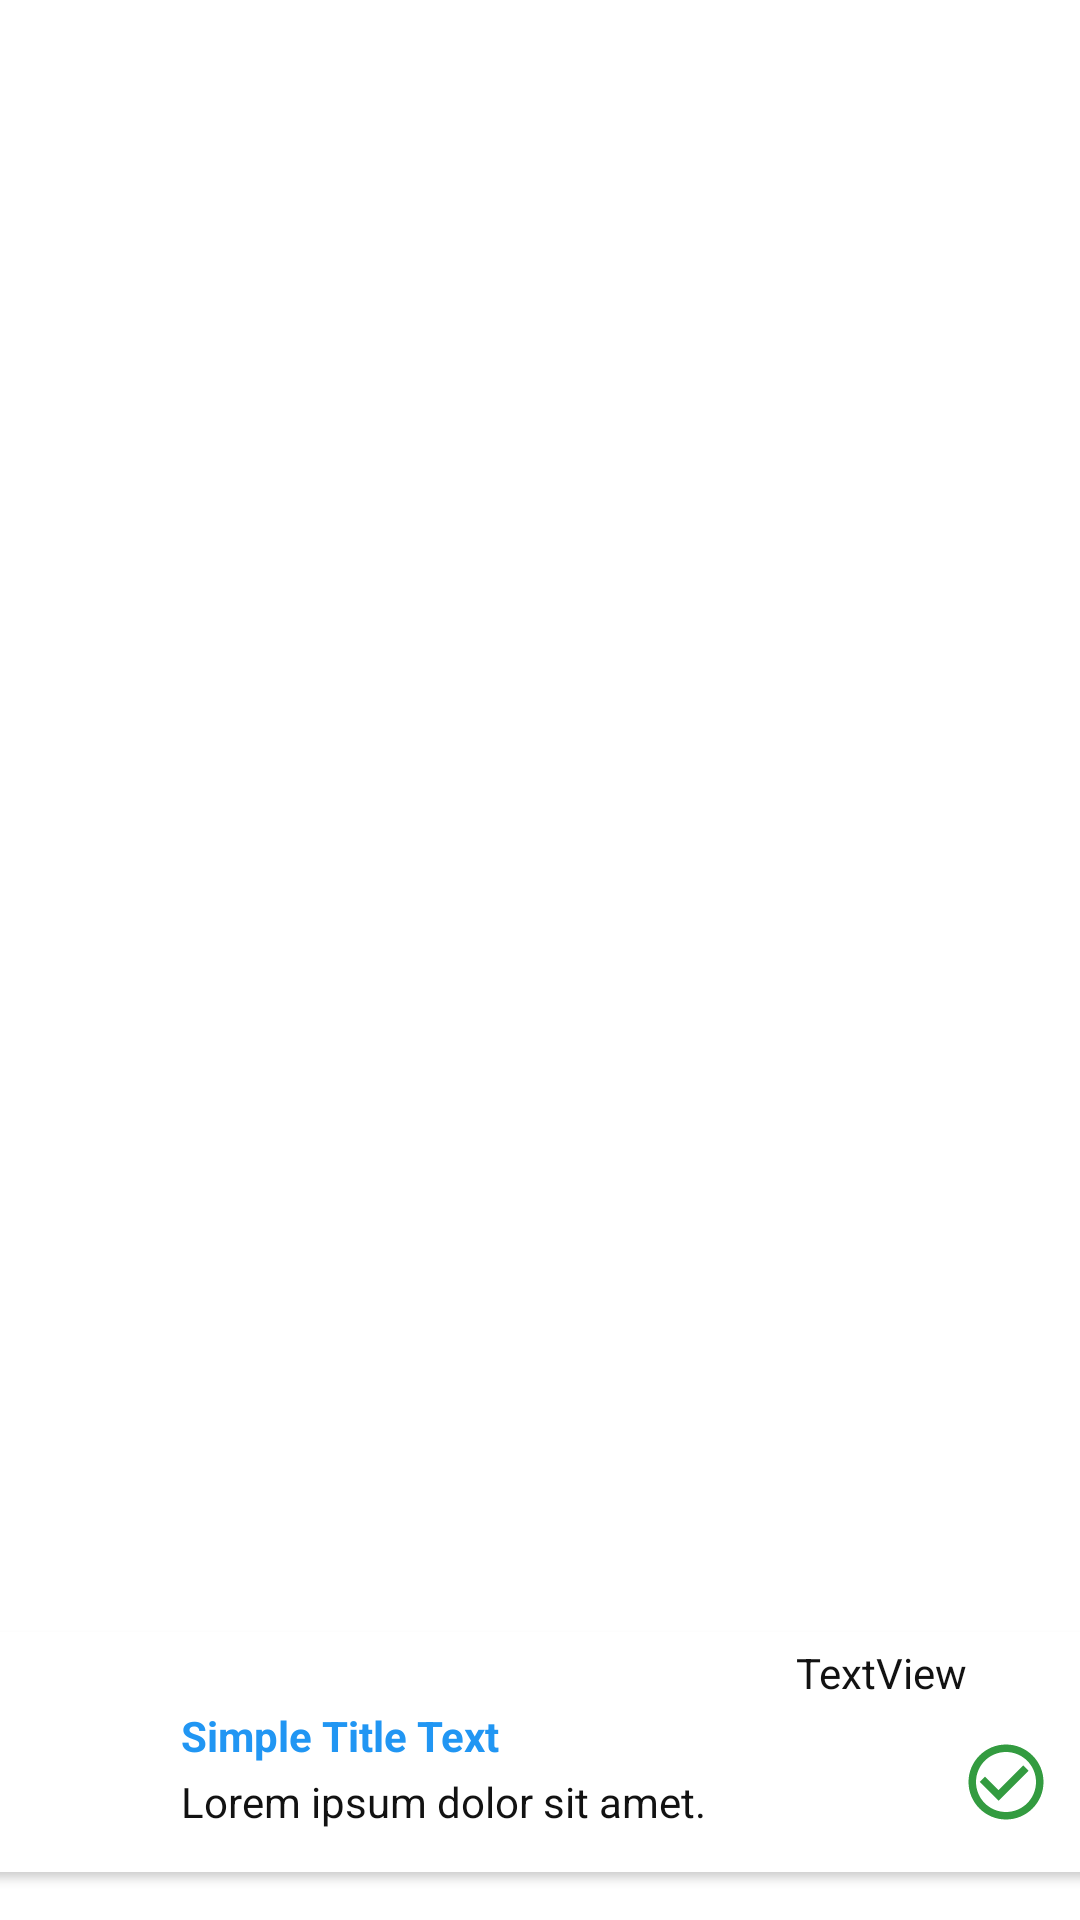

Icons on this 1080w x 1920h Android screen, each with the point to tap as (x=x, y=y):
finished: (x=1006, y=1782)
